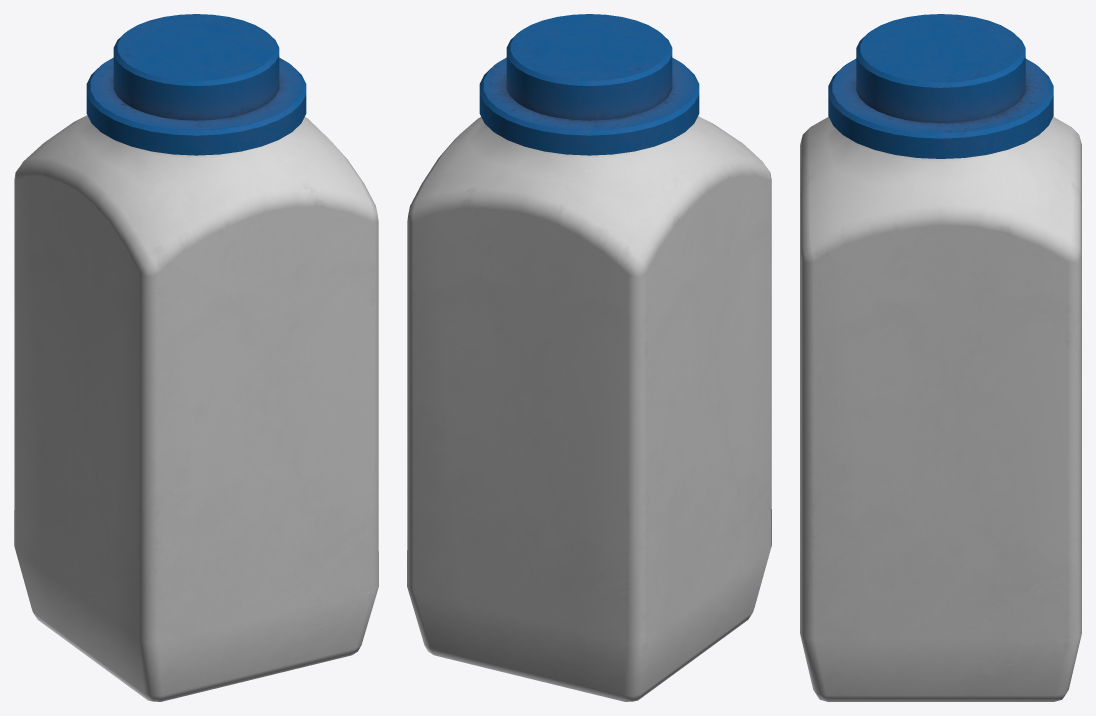
File: SM_摆件药瓶_006.fbx
The picture shows the model from 3 angles, left to right: view 1: azimuth 30°, elevation 25°; view 2: azimuth 150°, elevation 25°; view 3: azimuth 270°, elevation 25°; orthographic projection. The views are drawn at different scales.
Parts seen in each view (by area): view 1: SM_摆件药瓶_006; view 2: SM_摆件药瓶_006; view 3: SM_摆件药瓶_006.
Part boxes in pixels (box(x1,y1,x2,y2)): SM_摆件药瓶_006: box(14, 14, 378, 701); SM_摆件药瓶_006: box(407, 14, 771, 701); SM_摆件药瓶_006: box(800, 14, 1081, 701).
Bounding box in the file's own units: 95 × 95 × 225.
